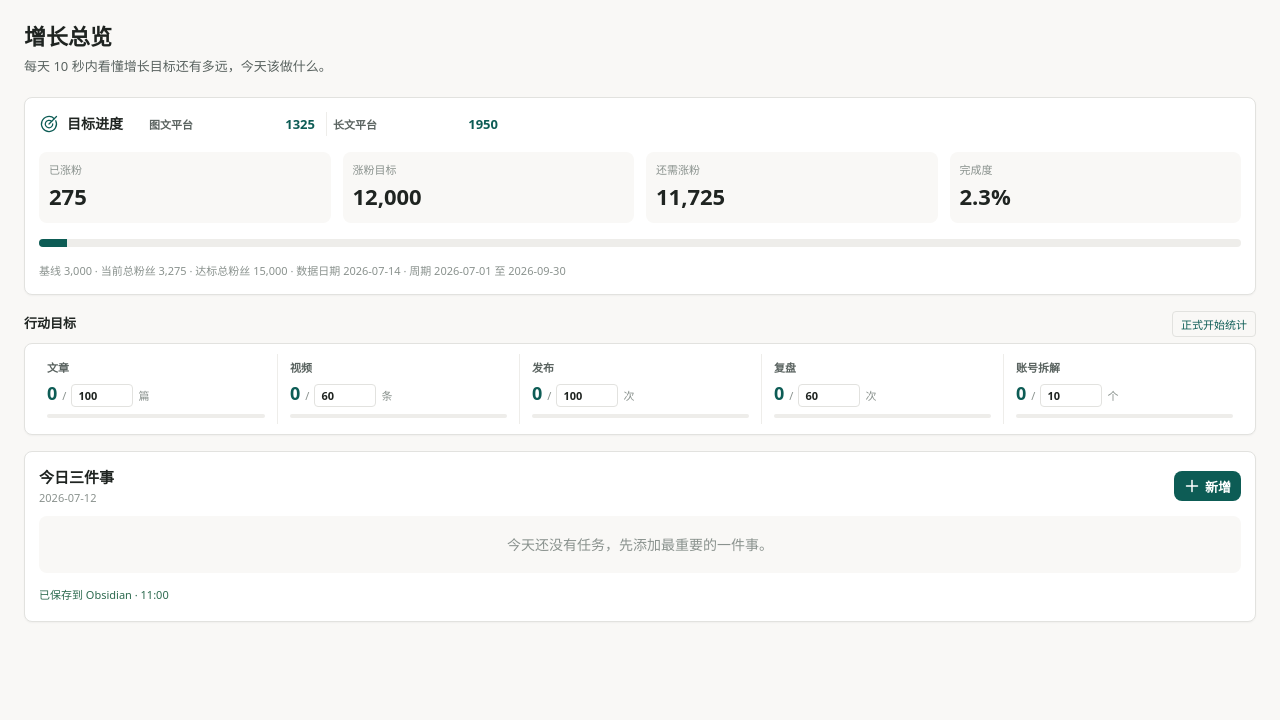
it: 今日三件事双向同步 › 中文输入法组词时按回车不会提前保存任务
The width and height of the screenshot is (1280, 720).
Expected: the text "今天还没有任务，先添加最重要的一件事。" is shown, [39, 516, 1241, 573]
Click the button with aria-label "新增今日任务" at [1208, 486], box [1174, 471, 1241, 501]
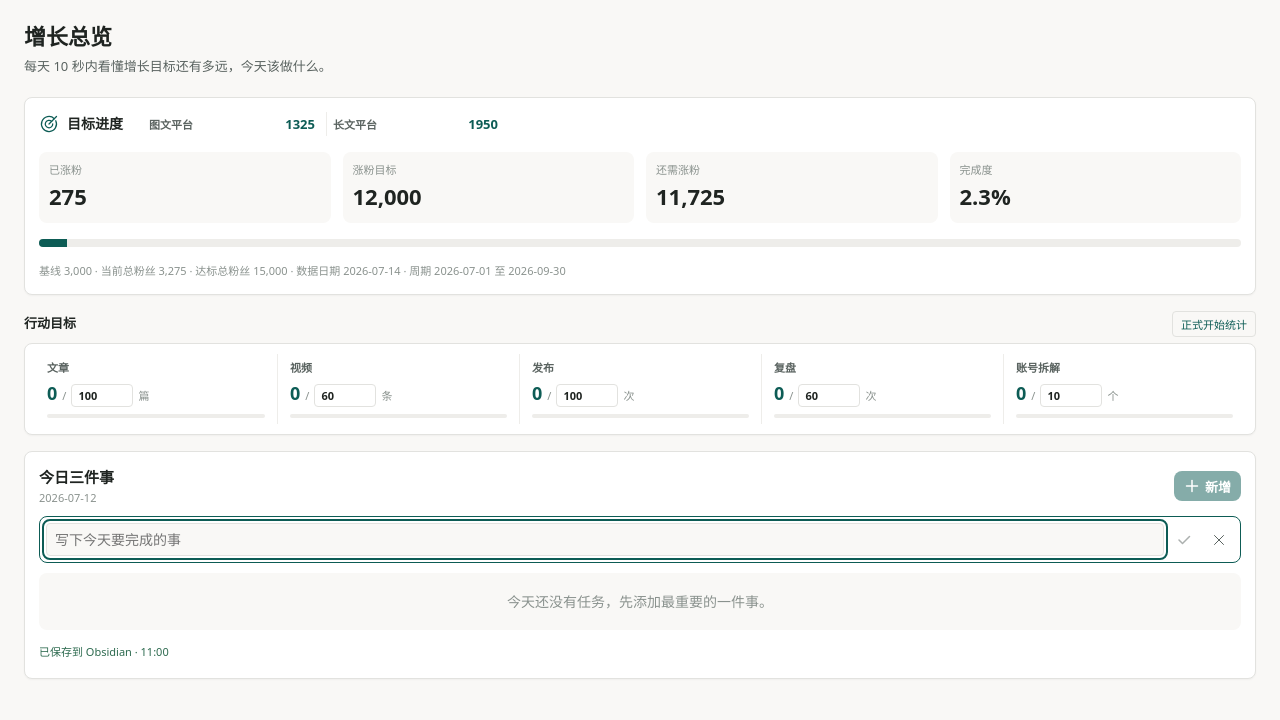
Type "中文选题" into the field named "新增今日任务" at [605, 540], box [46, 523, 1164, 556]
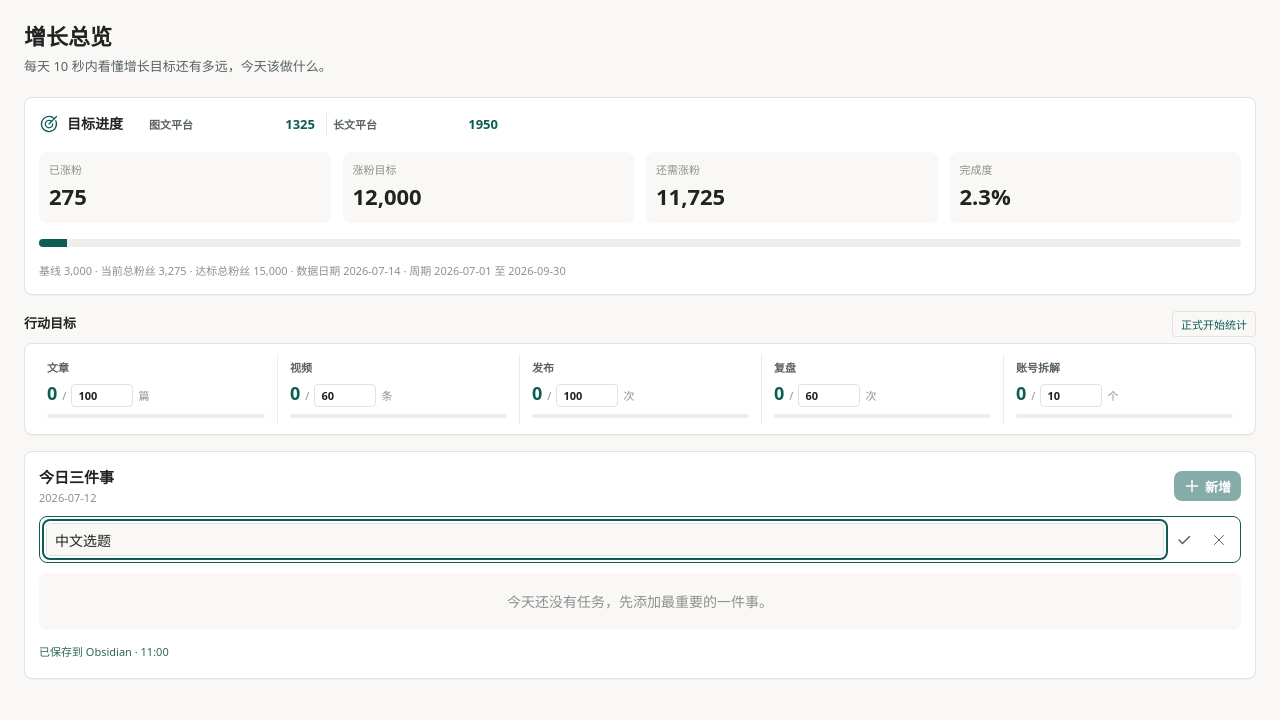
Press Enter in the field named "新增今日任务", box [46, 523, 1164, 556]
Press Enter in the field named "新增今日任务", box [46, 523, 1164, 556]
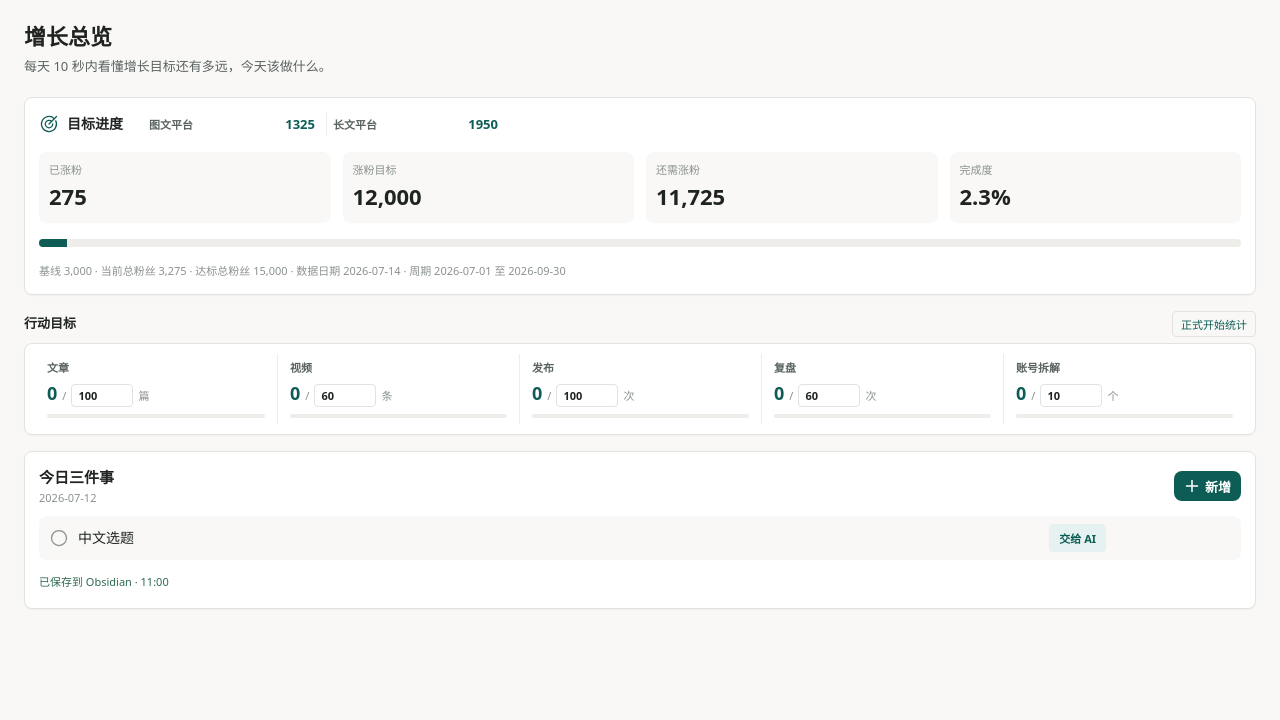
Expected: the text "中文选题" is shown, [78, 528, 134, 547]
